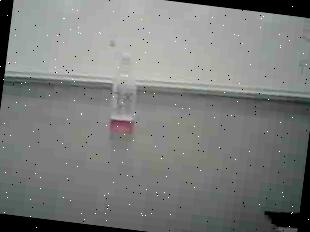hazard: (96, 40, 148, 134)
